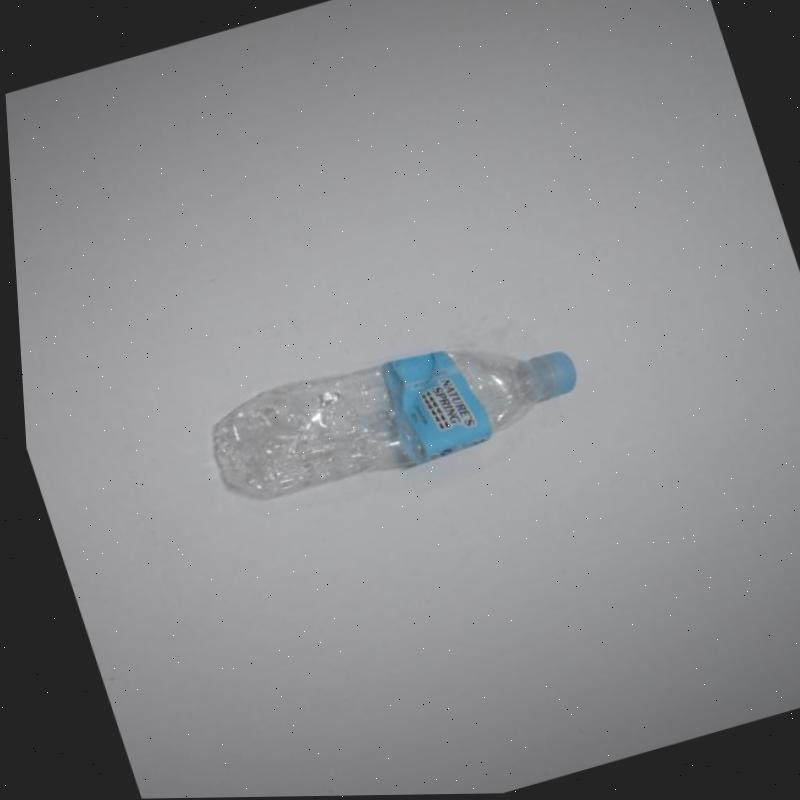botella: (187, 306, 594, 517)
